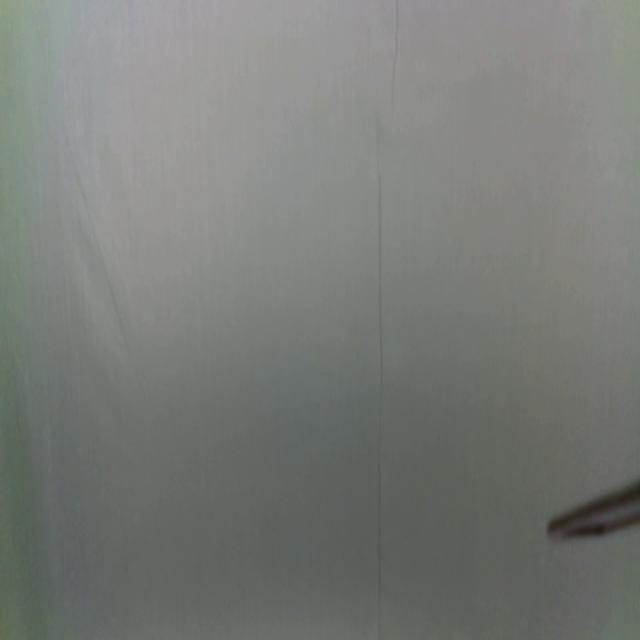crease: (375, 172, 383, 640), (388, 0, 401, 110)
